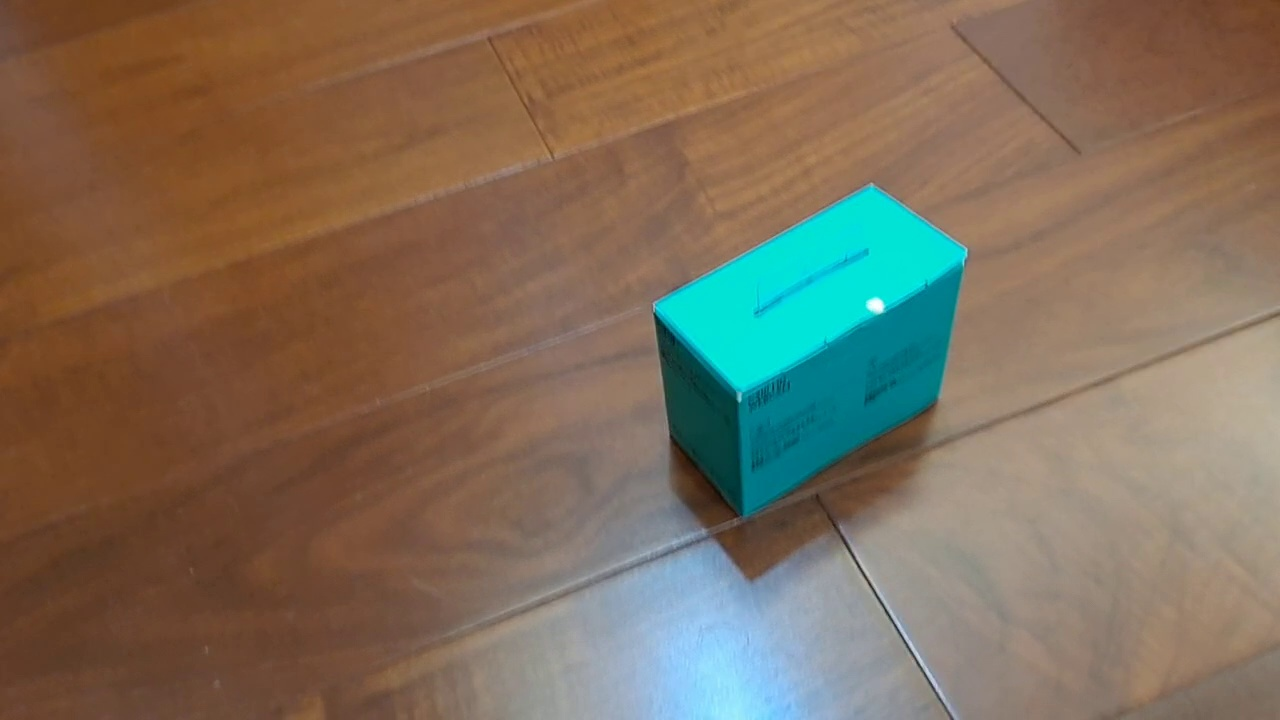webcam: (650, 181, 969, 523)
